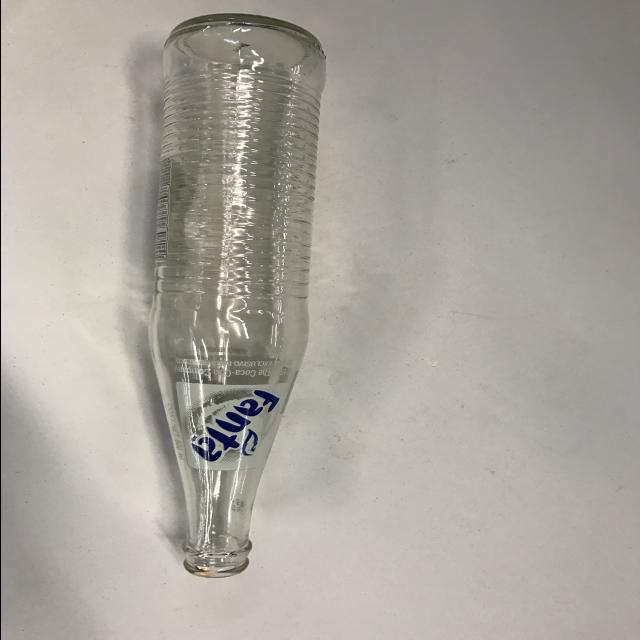glass: (144, 13, 340, 579)
